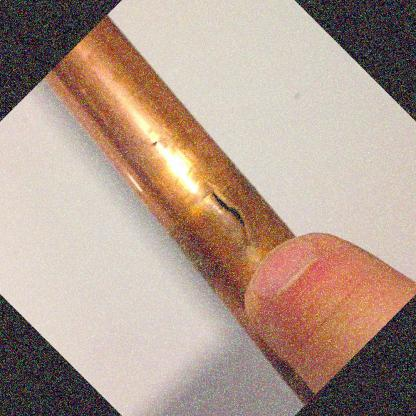burst: (210, 191, 256, 239)
